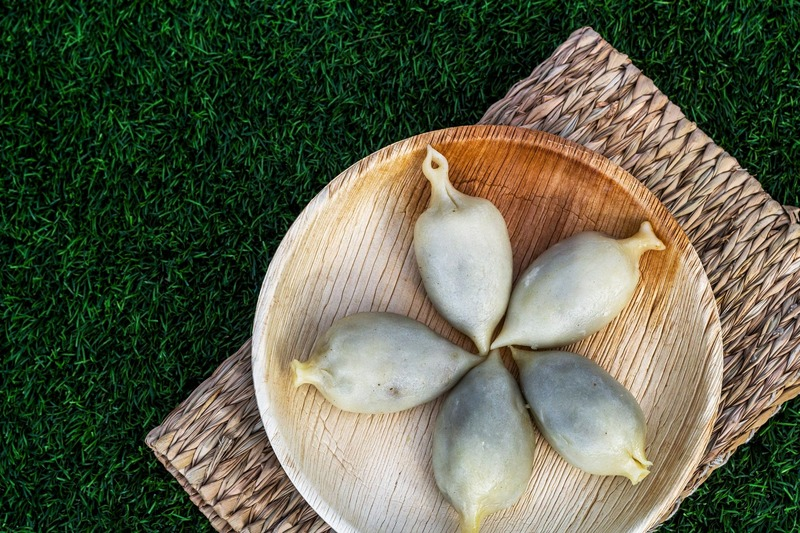yomari: (522, 213, 678, 361), (529, 358, 660, 488), (408, 139, 495, 315), (281, 334, 463, 401), (438, 386, 516, 532)
